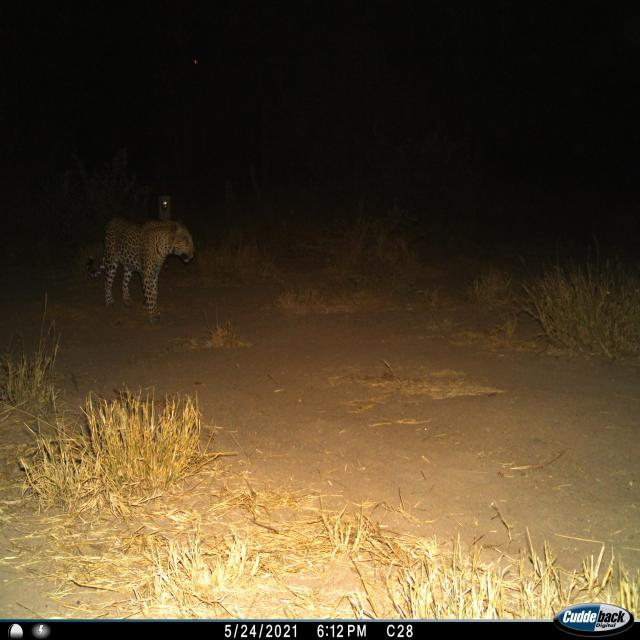Leopard: (81, 216, 197, 321)
